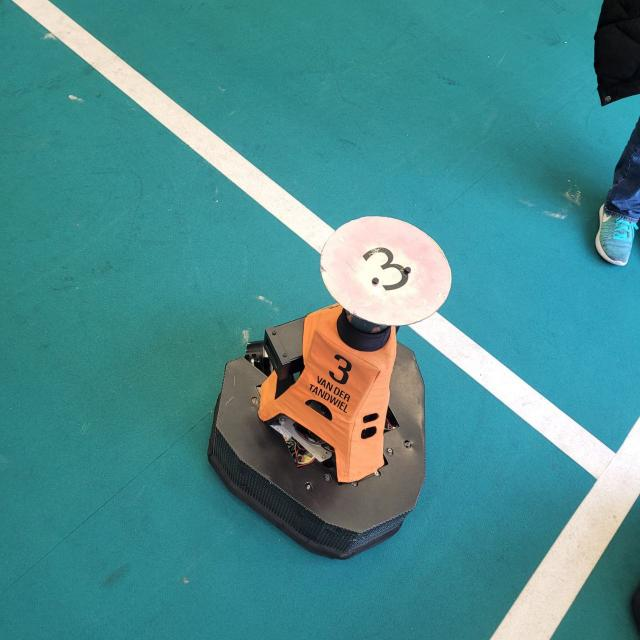robot: (189, 166, 462, 578)
